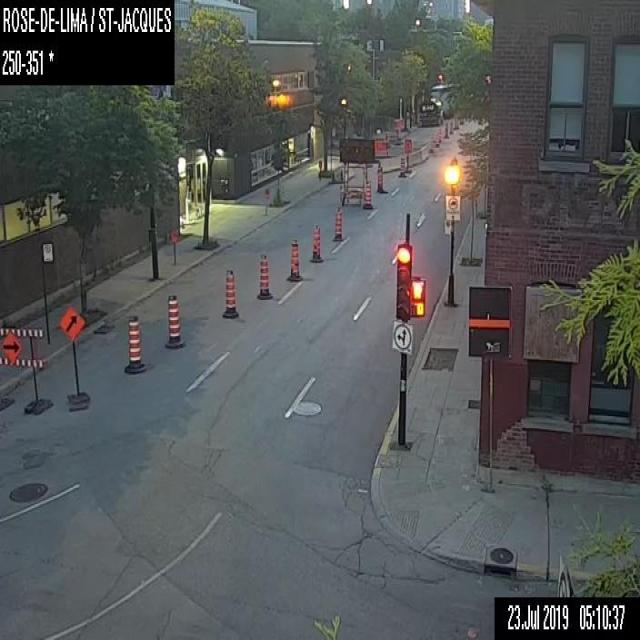construction: (56, 302, 98, 408), (0, 325, 49, 412), (341, 134, 373, 206), (125, 312, 146, 375), (164, 292, 186, 348), (219, 264, 240, 319), (256, 253, 274, 299), (286, 236, 303, 283), (309, 222, 323, 262), (332, 204, 344, 241), (372, 136, 389, 159), (374, 162, 384, 194), (360, 180, 371, 209), (404, 135, 411, 168), (398, 153, 405, 175), (393, 116, 402, 129), (443, 120, 452, 132), (435, 128, 440, 145), (264, 189, 270, 203), (171, 233, 176, 246), (316, 159, 323, 168), (0, 336, 5, 344), (0, 349, 3, 356)
